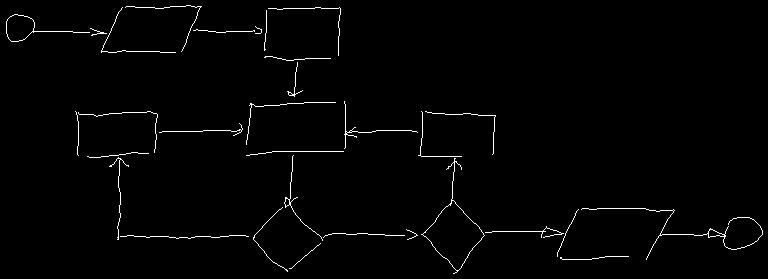arrow: (109, 157, 248, 239), (159, 123, 242, 135), (323, 229, 417, 239), (485, 226, 563, 237), (344, 127, 417, 137), (446, 158, 461, 205), (284, 155, 297, 207), (659, 228, 725, 237), (33, 28, 106, 35), (287, 62, 302, 96), (193, 26, 261, 33)
connection: (723, 217, 762, 249), (6, 14, 34, 41)
data: (557, 208, 674, 259), (101, 5, 201, 52)
decision: (253, 201, 322, 271), (421, 200, 484, 273)
process: (246, 101, 345, 155), (264, 7, 340, 60), (75, 111, 157, 157), (418, 111, 495, 156)
